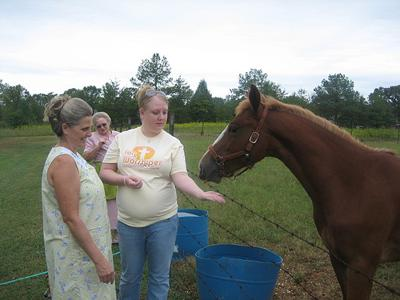person: (103, 85, 226, 300)
